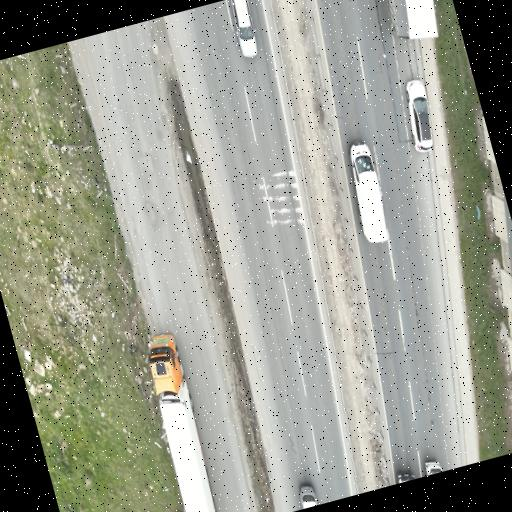bus: (426, 461, 443, 475)
car: (349, 142, 388, 242), (405, 79, 432, 151), (230, 0, 256, 57), (300, 485, 318, 509)
truck: (148, 334, 214, 511), (388, 0, 436, 38), (396, 474, 416, 483)
